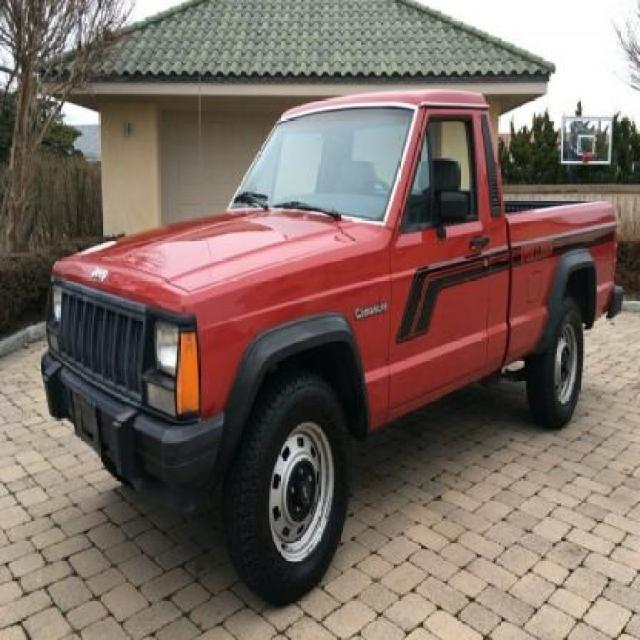Jeep: (39, 74, 627, 606)
